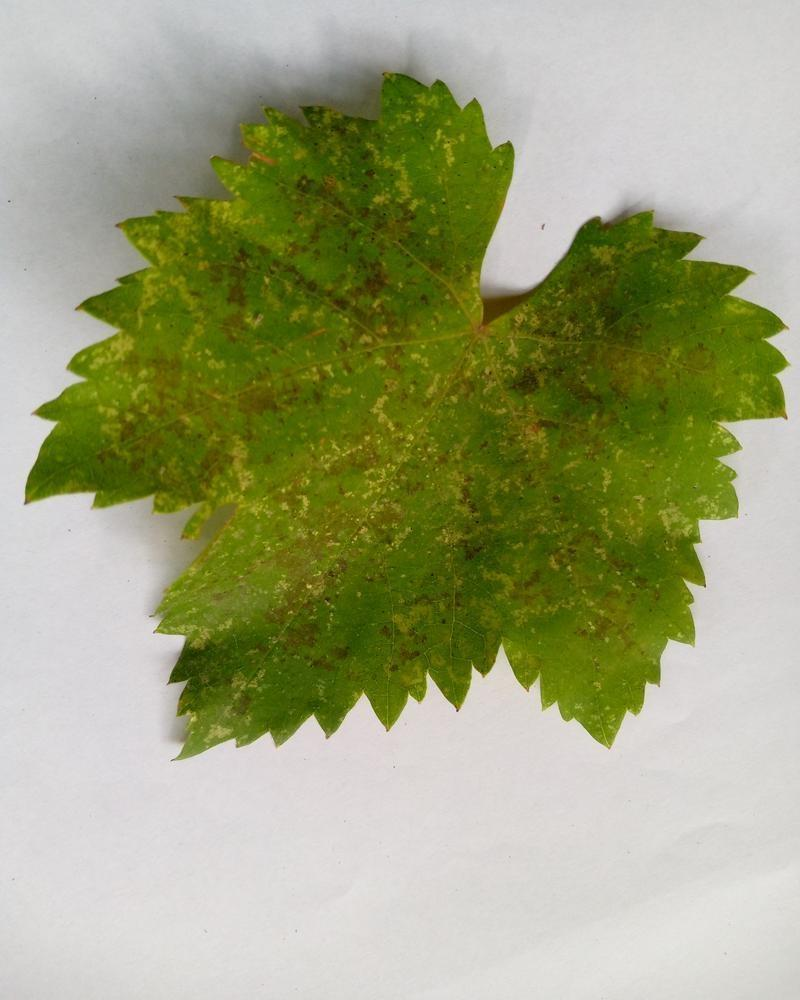Powdery-Mildew: (168, 391, 406, 633), (436, 291, 612, 454), (120, 148, 284, 316), (634, 340, 763, 540), (83, 330, 215, 465), (420, 460, 524, 604), (349, 114, 473, 209), (352, 245, 415, 308), (269, 290, 332, 353), (572, 565, 635, 628)
